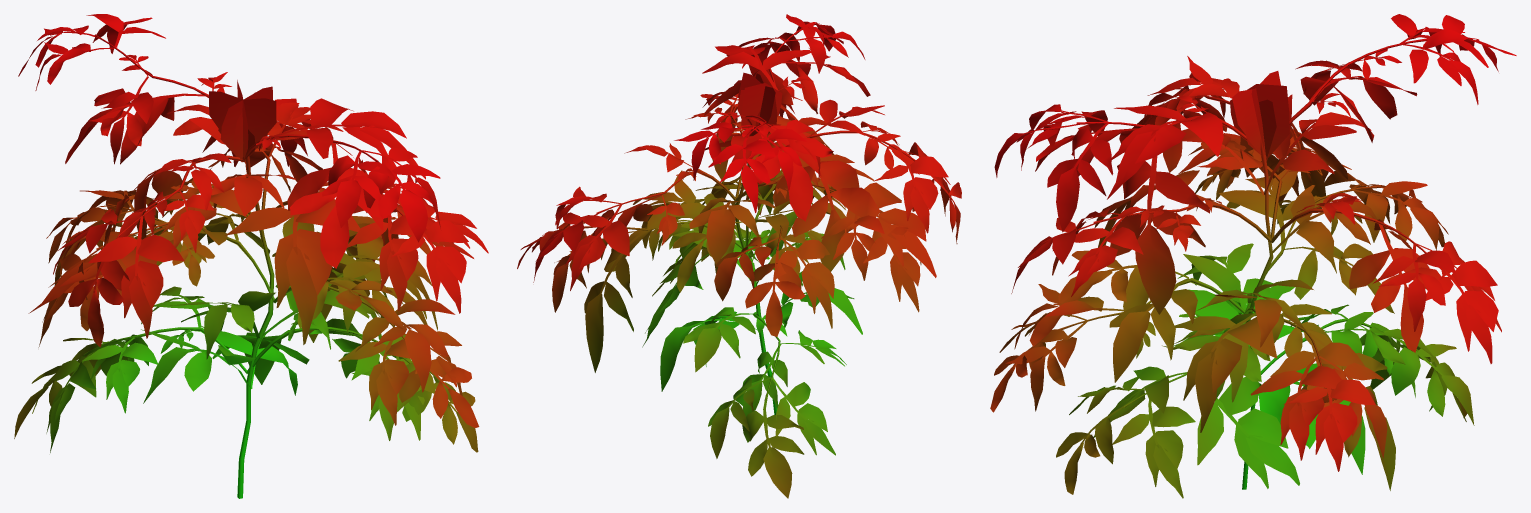
The model's file is Var3_LOD1.fbx.
3 renders of one model, left to right at view 1: azimuth 30°, elevation 25°; view 2: azimuth 150°, elevation 25°; view 3: azimuth 270°, elevation 25°, orthographic. The views are drawn at different scales.
Visible parts, largest first — view 1: _rqkl_Var3_LOD1; view 2: _rqkl_Var3_LOD1; view 3: _rqkl_Var3_LOD1.
Boxes of the visible parts, left/top/right/bottom form: _rqkl_Var3_LOD1: left=14, top=14, right=488, bottom=498; _rqkl_Var3_LOD1: left=517, top=14, right=961, bottom=498; _rqkl_Var3_LOD1: left=990, top=14, right=1516, bottom=498.
Size of the model in its own units: 103 by 89.72 by 98.4.
